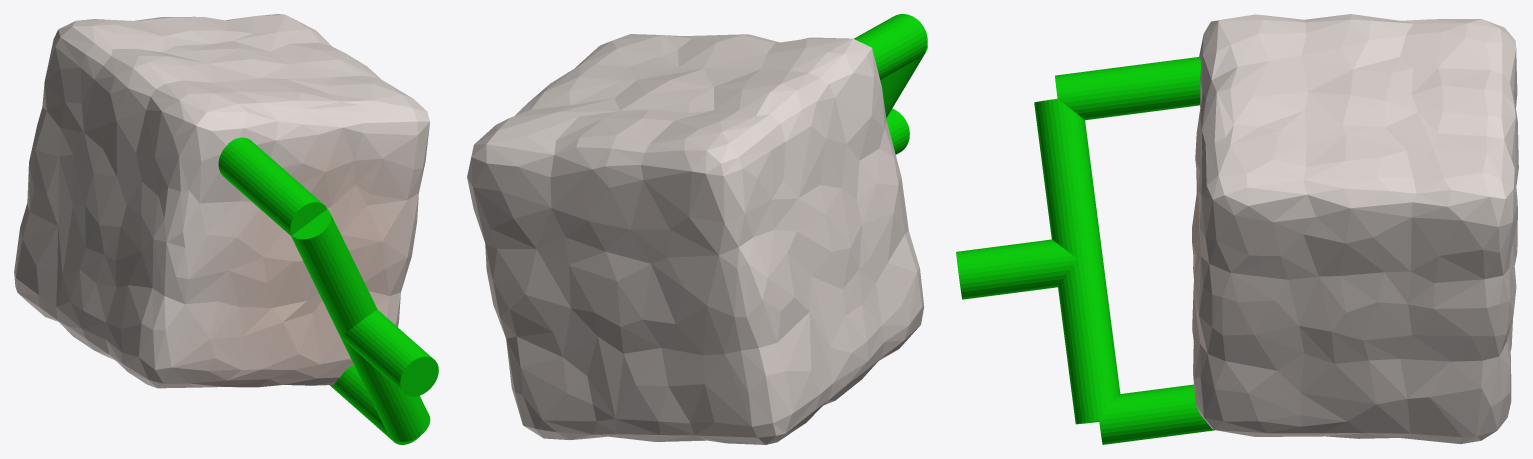
The model's file is round_000_trial_000.obj.
The picture shows the model from 3 angles, left to right: view 1: azimuth 30°, elevation 25°; view 2: azimuth 150°, elevation 25°; view 3: azimuth 270°, elevation 25°; orthographic projection. The views are drawn at different scales.
Parts seen in each view (by area): view 1: geometry_0, geometry_1; view 2: geometry_0, geometry_1; view 3: geometry_0, geometry_1.
Part boxes in pixels (<box>): geometry_0: <box>14,14,429,388</box>; geometry_1: <box>218,137,438,444</box>; geometry_0: <box>467,34,924,444</box>; geometry_1: <box>854,14,927,154</box>; geometry_0: <box>1192,14,1518,444</box>; geometry_1: <box>956,57,1214,444</box>.
Size of the model in its own units: 0.0754 by 0.08 by 0.1166.
